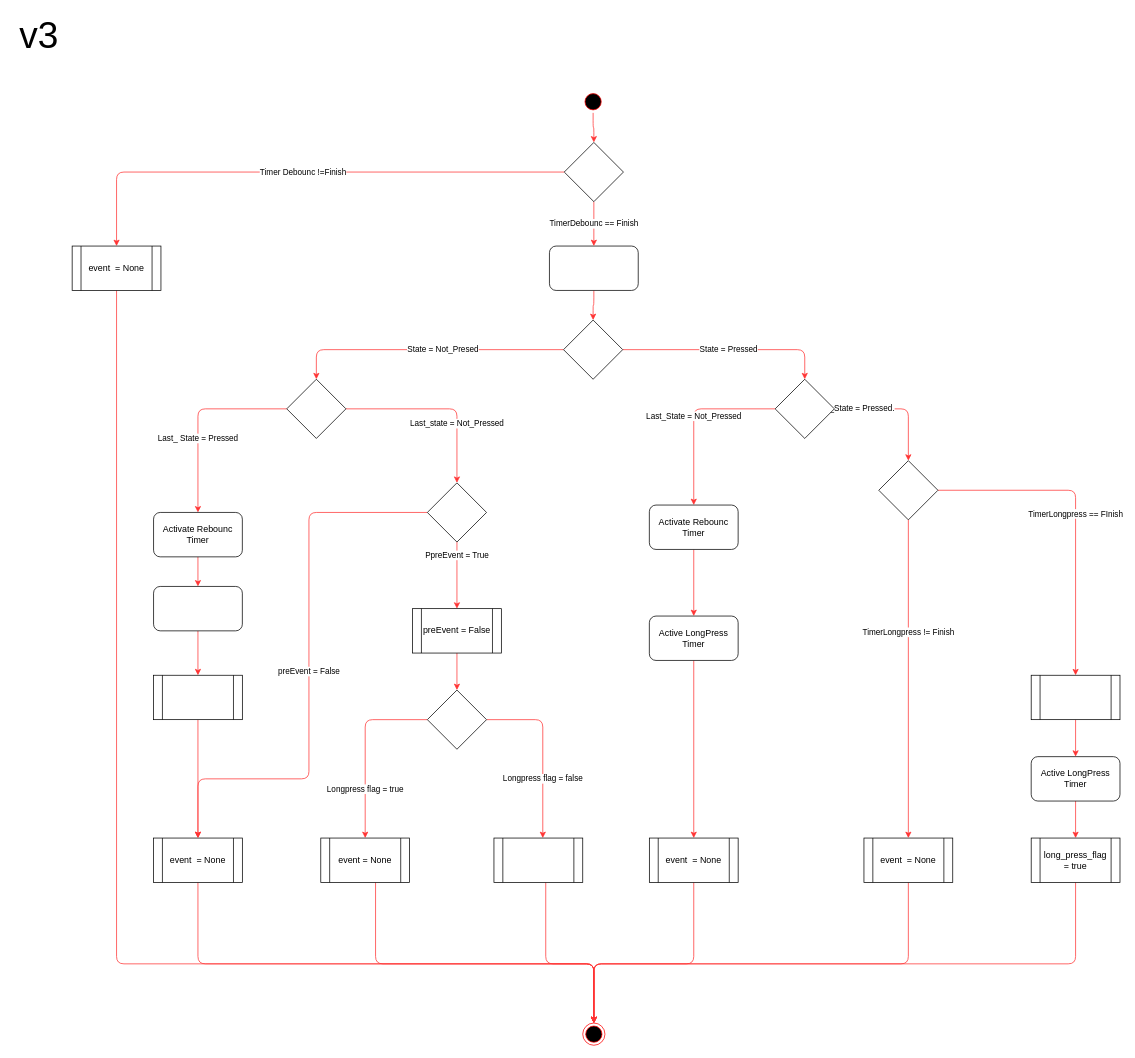
Image size: 1135x1058. Some labels were removed from this diagram. Each missing label, with the box of its shape:
Deactivate Longpress Timer.: (153, 586, 242, 631)
event = Click: (493, 837, 583, 882)
event = Longpress: (1030, 675, 1120, 720)
preEvent = True: (153, 675, 242, 720)
Update State: (549, 245, 638, 290)
